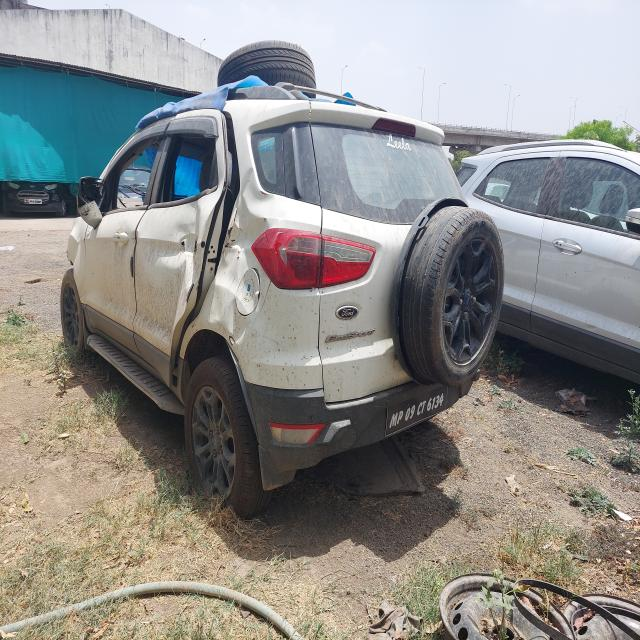damage: (151, 196, 214, 333), (220, 165, 266, 349), (73, 173, 100, 225), (67, 235, 86, 307)
